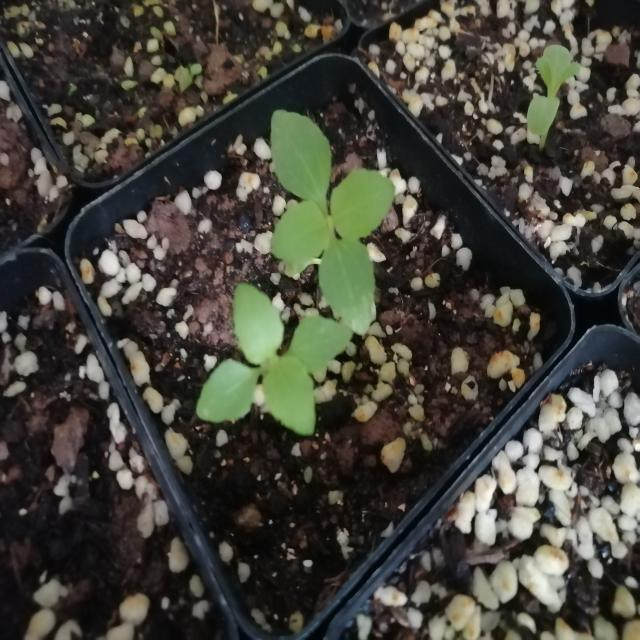billygoat_weed: (270, 104, 399, 319), (200, 288, 360, 447)
